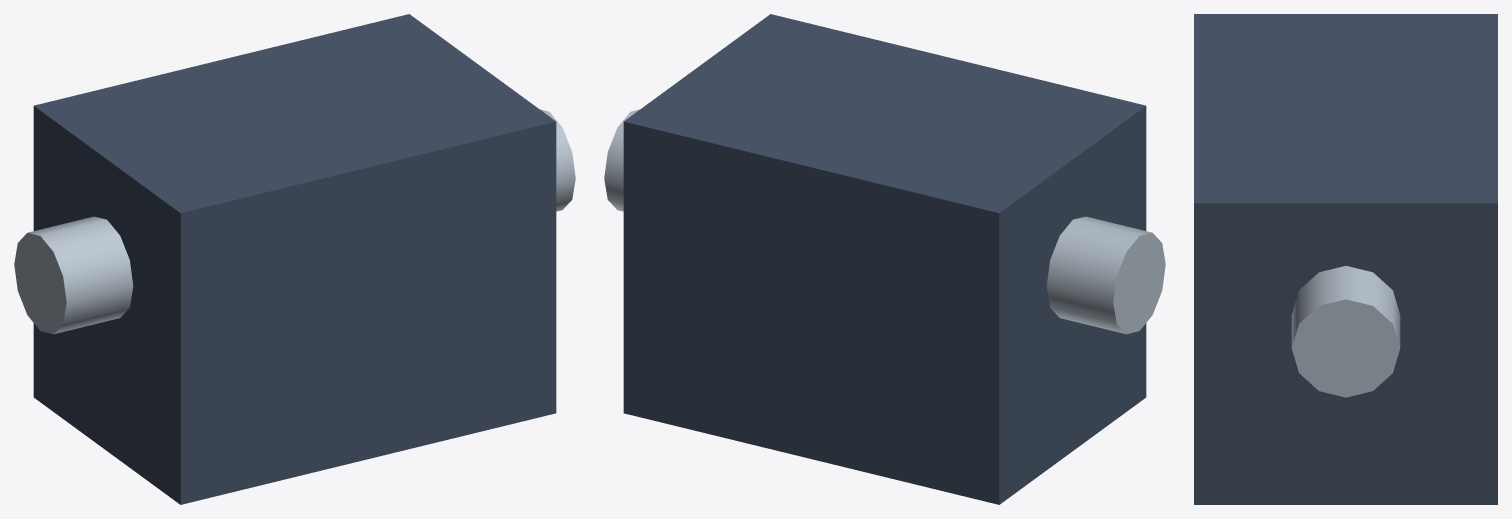
File: equip-whole-house-dehumidifier.glb
The picture shows the model from 3 angles, left to right: view 1: azimuth 30°, elevation 25°; view 2: azimuth 150°, elevation 25°; view 3: azimuth 270°, elevation 25°; orthographic projection. The views are drawn at different scales.
Visible parts, largest first — view 1: hvac-equipment-dehumidifier-whole-house; view 2: hvac-equipment-dehumidifier-whole-house; view 3: hvac-equipment-dehumidifier-whole-house.
Boxes of the visible parts, left/top/right/bottom form: hvac-equipment-dehumidifier-whole-house: left=14, top=14, right=575, bottom=504; hvac-equipment-dehumidifier-whole-house: left=604, top=14, right=1165, bottom=504; hvac-equipment-dehumidifier-whole-house: left=1194, top=14, right=1497, bottom=504.
Size of the model in its own units: 0.84 by 0.46 by 0.42.
